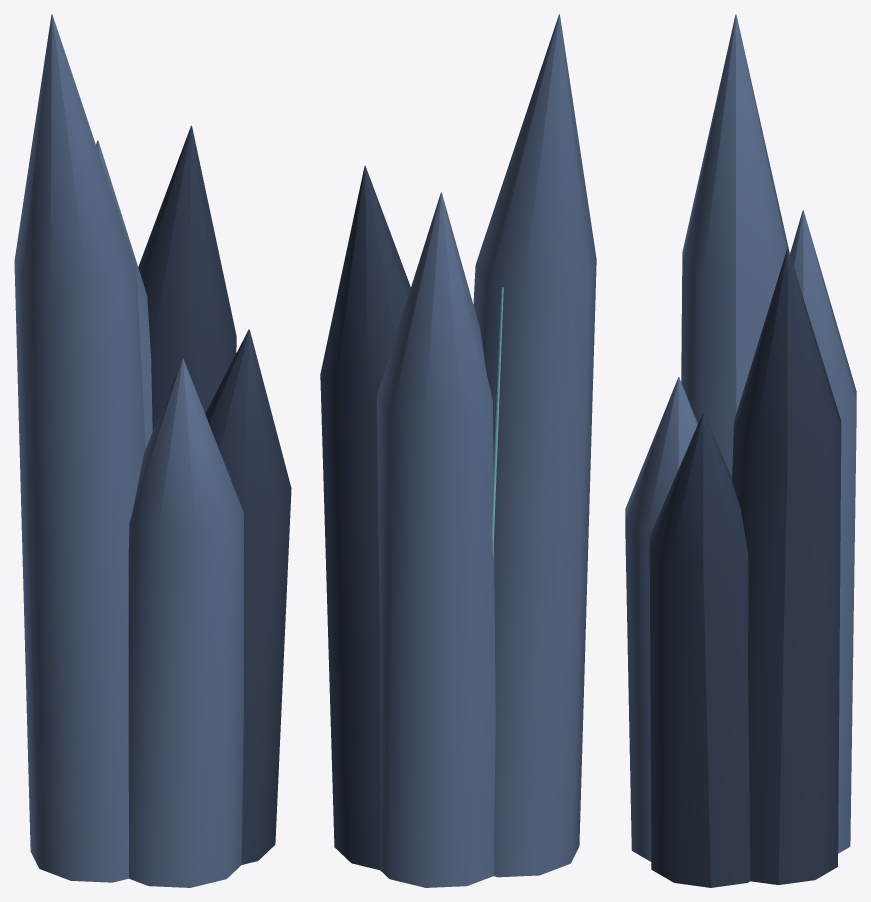
Rendered from prop_2_3.glb.
3 renders of one model, left to right at view 1: azimuth 30°, elevation 25°; view 2: azimuth 150°, elevation 25°; view 3: azimuth 270°, elevation 25°, orthographic. The views are drawn at different scales.
Visible parts, largest first — view 1: MoonShard (×5); view 2: MoonShard (×3), CrystalVein; view 3: MoonShard (×5).
Boxes of the visible parts, bbox=[...] form: MoonShard (×5): bbox=[14, 14, 291, 887]; MoonShard (×3): bbox=[320, 14, 596, 887]; CrystalVein: bbox=[492, 287, 503, 558]; MoonShard (×5): bbox=[625, 14, 856, 887].
Size of the model in its own units: 2.06 by 6.9 by 1.85.
